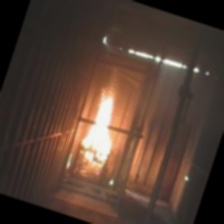fire: (68, 79, 134, 176)
